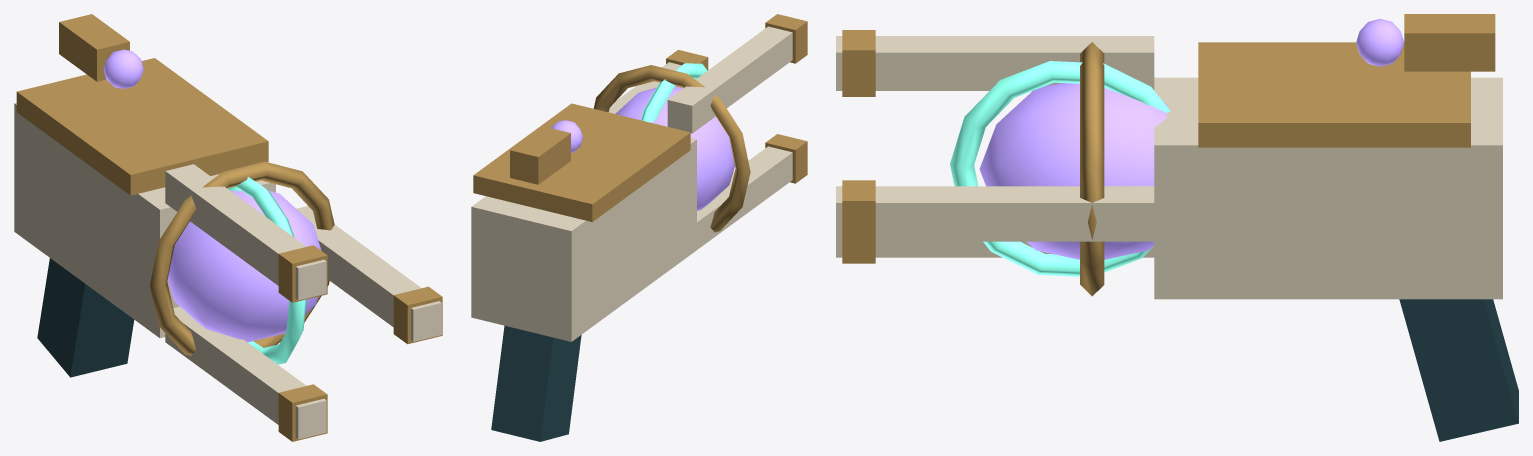
The model's file is thunder.glb.
The picture shows the model from 3 angles, left to right: view 1: azimuth 30°, elevation 25°; view 2: azimuth 150°, elevation 25°; view 3: azimuth 270°, elevation 25°; orthographic projection. The views are drawn at different scales.
Parts seen in each view (by area): view 1: ivory-surface, gold-surface, violet-surface, grip-surface, mint-surface; view 2: ivory-surface, gold-surface, grip-surface, violet-surface, mint-surface; view 3: ivory-surface, gold-surface, violet-surface, grip-surface, mint-surface.
Part boxes in pixels (bbox=[...]): ivory-surface: bbox=[14, 103, 441, 439]; gold-surface: bbox=[16, 14, 442, 441]; violet-surface: bbox=[103, 49, 321, 342]; grip-surface: bbox=[37, 258, 134, 377]; mint-surface: bbox=[228, 177, 306, 364]; ivory-surface: bbox=[471, 26, 792, 341]; gold-surface: bbox=[473, 14, 807, 232]; grip-surface: bbox=[491, 325, 581, 441]; violet-surface: bbox=[551, 86, 734, 210]; mint-surface: bbox=[641, 63, 707, 122]; ivory-surface: bbox=[836, 36, 1502, 299]; gold-surface: bbox=[842, 14, 1495, 296]; violet-surface: bbox=[979, 18, 1404, 259]; grip-surface: bbox=[1399, 299, 1518, 441]; mint-surface: bbox=[950, 61, 1170, 276].
Bounding box in the file's own units: 0.086 × 0.1473 × 0.2252.
